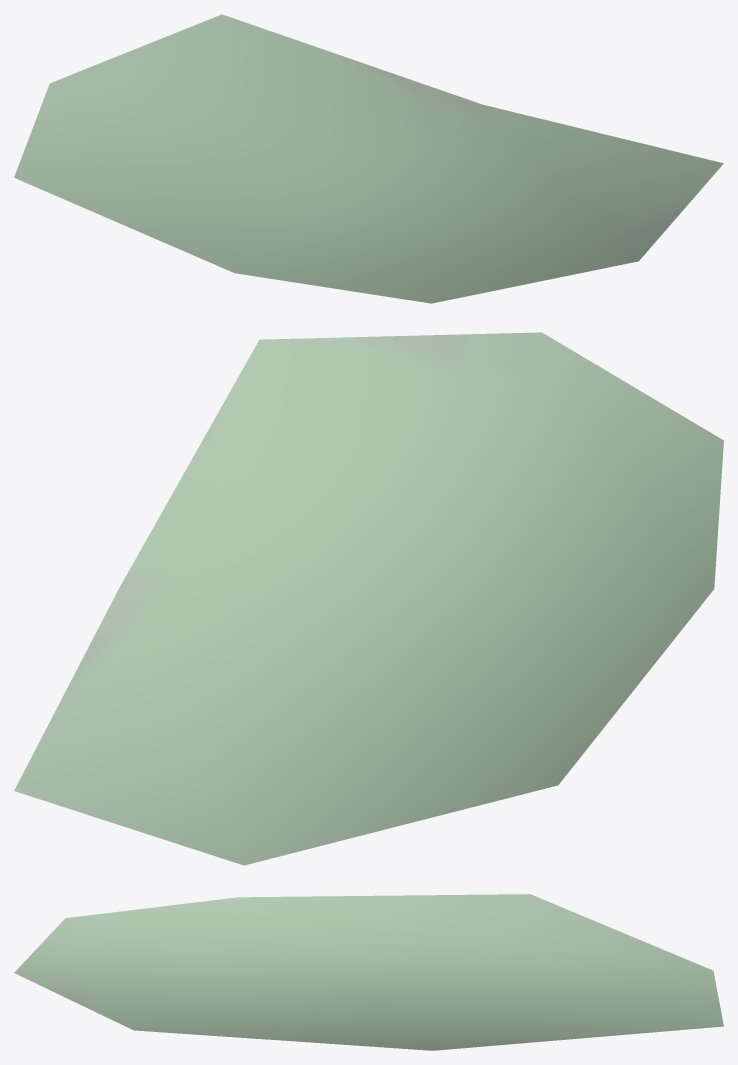
File: TROLLHOLE02_HOLECAP84.fbx
3 views of the same model, one above another, from view 1: azimuth 30°, elevation 25°; view 2: azimuth 150°, elevation 25°; view 3: azimuth 270°, elevation 25° (orthographic). The views are drawn at different scales.
Visible parts, largest first — view 1: TROLLHOLE02_HOLECAP84; view 2: TROLLHOLE02_HOLECAP84; view 3: TROLLHOLE02_HOLECAP84.
Boxes of the visible parts, x1,y1,x2,y2 form: TROLLHOLE02_HOLECAP84: (14, 14, 723, 303); TROLLHOLE02_HOLECAP84: (14, 332, 723, 865); TROLLHOLE02_HOLECAP84: (14, 894, 723, 1050).
Size of the model in its own units: 11985 by 2185 by 18372.
1 material, 1 textured.
